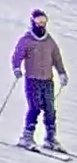skier: (0, 9, 77, 161)
